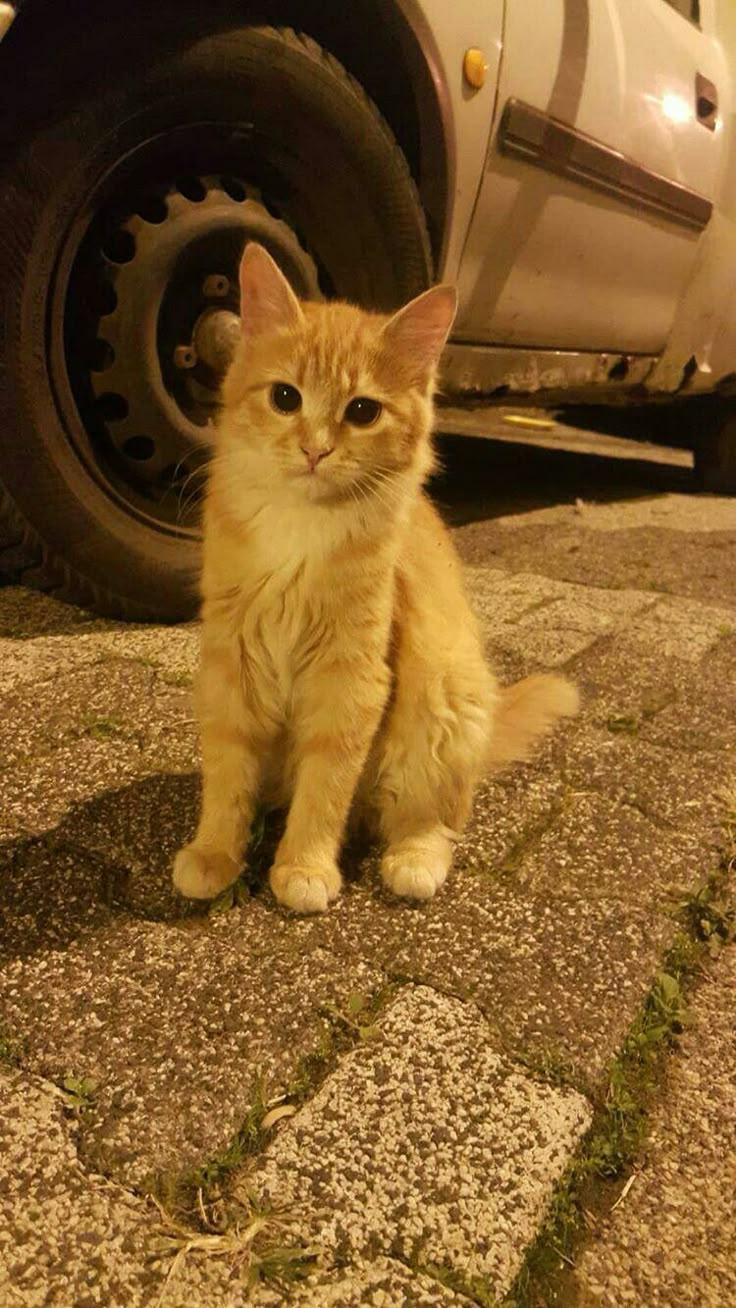kedo: (178, 233, 488, 907)
